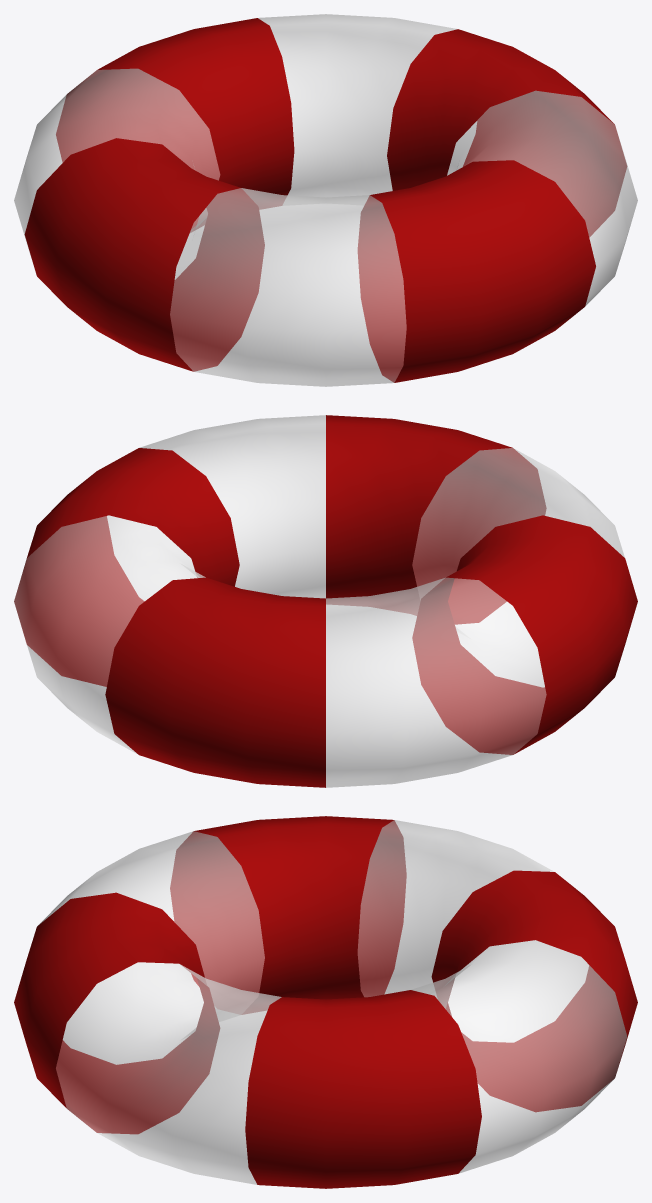
3 views of the same model, one above another, from view 1: azimuth 30°, elevation 25°; view 2: azimuth 150°, elevation 25°; view 3: azimuth 270°, elevation 25° (orthographic).
Visible parts, largest first — view 1: Torus002; view 2: Torus002; view 3: Torus002.
Boxes of the visible parts, x1,y1,x2,y2 form: Torus002: (14,14,637,386); Torus002: (14,415,637,787); Torus002: (14,816,637,1188).
Size of the model in its own units: 107 by 32.52 by 107.
